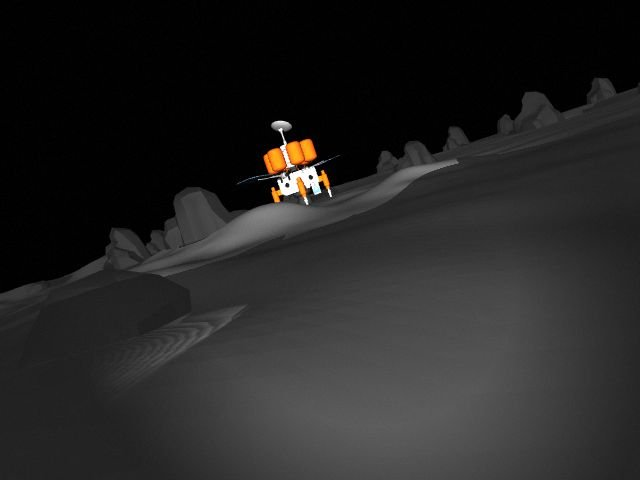homebase: (229, 117, 353, 208)
